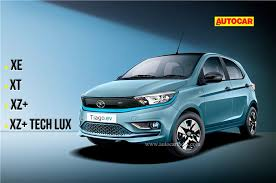Tiago: (77, 49, 259, 158)
